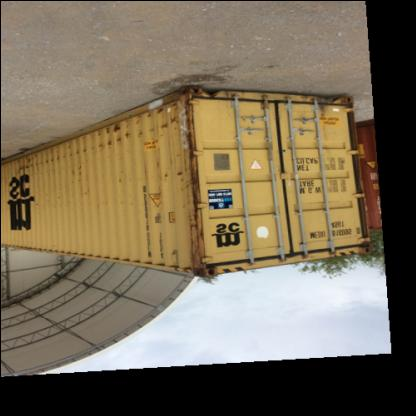Damage: (20, 112, 182, 172), (181, 87, 205, 281), (153, 154, 193, 184)
